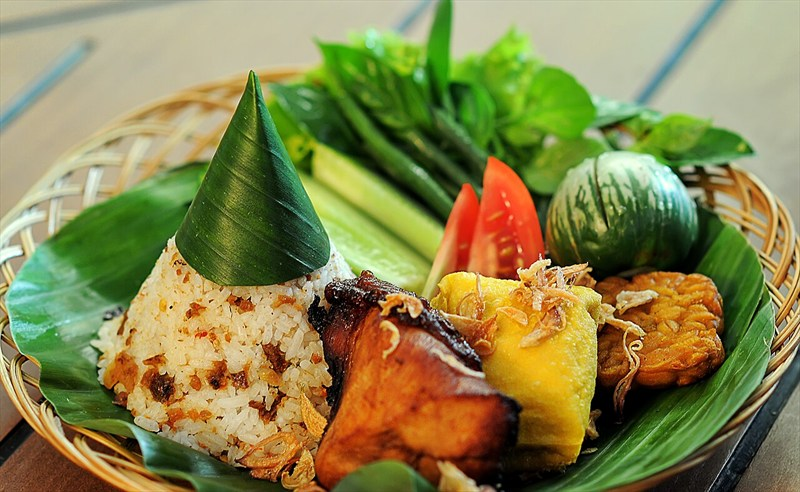Tempe Goreng: (117, 73, 718, 468)
